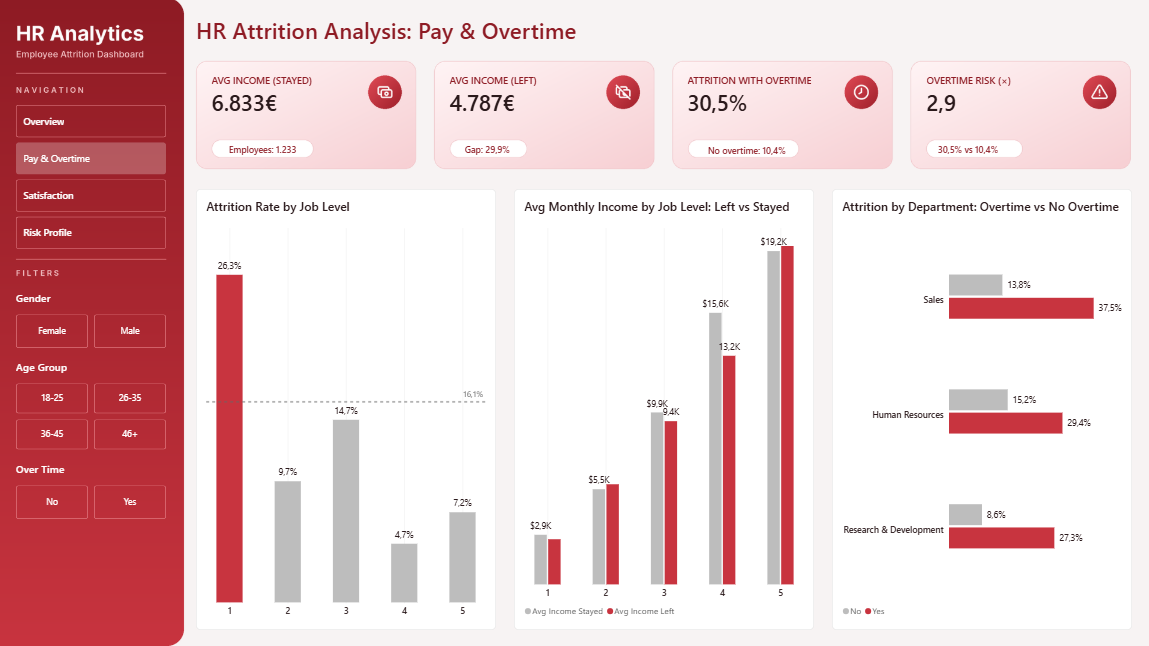

The page's visual inventory and layout, read from the dashboard file:
{"tool":"powerbi","page":{"name":"Pay & Overtime","canvas":[1920,1080],"ordinal":1},"visuals":[{"type":"textbox","box":[330,25,1000,60],"z":0},{"type":"clusteredColumnChart","title":"Avg Monthly Income by Job Level: Left vs Stayed","fields":{"Category":["HR.JobLevel"],"Y":["Measure.Avg Income Stayed","Measure.Avg Income Left"]},"box":[860,315,500,735],"z":1000},{"type":"clusteredColumnChart","title":"Attrition Rate by Job Level","fields":{"Category":["HR.JobLevel"],"Y":["Measure.Attrition Rate"]},"box":[330,315,500,735],"z":2000},{"type":"clusteredBarChart","title":"Attrition by Department: Overtime vs No Overtime","fields":{"Category":["DimDepartment.Department"],"Series":["HR.OverTime"],"Y":["Measure.Attrition Rate"]},"box":[1390,315,500,735],"z":3000},{"type":"pageNavigator","box":[30,175,250,240],"z":4000},{"type":"cardVisual","title":"TOTAL EMPLOYEES","fields":{"Data":["Measure.Avg Income Stayed Card"]},"box":[330,105,285,125],"z":5000},{"type":"cardVisual","fields":{"Data":["Measure.Avg Income Left Card"]},"box":[726.6,105,302,125.5],"z":6000},{"type":"cardVisual","fields":{"Data":["Measure.Attrition Rate OT"]},"box":[1123.4,105,383.7,125.5],"z":7000},{"type":"cardVisual","fields":{"Data":["Measure.OT Risk Multiplier"]},"box":[1521.7,105,367.7,125.5],"z":8000},{"type":"cardVisual","title":"TOTAL EMPLOYEES","fields":{"Data":["Measure.Ref Stayed"]},"box":[356,234,220,30],"z":9000},{"type":"cardVisual","title":"TOTAL EMPLOYEES","fields":{"Data":["Measure.Ref OT Compare"]},"box":[1537.8,233.4,154.7,30.6],"z":10000},{"type":"cardVisual","title":"TOTAL EMPLOYEES","fields":{"Data":["Measure.Ref No OT"]},"box":[1154.3,232.9,180,31.4],"z":11000},{"type":"cardVisual","title":"TOTAL EMPLOYEES","fields":{"Data":["Measure.Ref Income Gap"]},"box":[749.9,233.4,220,30],"z":12000},{"type":"advancedSlicerVisual","fields":{"Values":["HR.Gender"]},"box":[30,485,250,95],"z":13000},{"type":"advancedSlicerVisual","title":"Age Group","fields":{"Values":["HR.AgeGroup"]},"box":[30,600,250,150],"z":14000},{"type":"advancedSlicerVisual","title":"Over Time","fields":{"Values":["HR.OverTime"]},"box":[30,770,250,95],"z":15000}]}

Visuals, with their boxes in screenshot pixels (x1, y1, x2, y2), scaled from the page's 1920x1080 canvas onto the 1149x646 screenshot:
textbox: 197,15,796,51
"Avg Monthly Income by Job Level: Left vs Stayed" clusteredColumnChart: 515,188,814,628
"Attrition Rate by Job Level" clusteredColumnChart: 197,188,497,628
"Attrition by Department: Overtime vs No Overtime" clusteredBarChart: 832,188,1131,628
pageNavigator: 18,105,168,248
"TOTAL EMPLOYEES" cardVisual: 197,63,368,138
cardVisual - Measure.Avg Income Left Card: 435,63,616,138
cardVisual - Measure.Attrition Rate OT: 672,63,902,138
cardVisual - Measure.OT Risk Multiplier: 911,63,1131,138
"TOTAL EMPLOYEES" cardVisual: 213,140,345,158
"TOTAL EMPLOYEES" cardVisual: 920,140,1013,158
"TOTAL EMPLOYEES" cardVisual: 691,139,798,158
"TOTAL EMPLOYEES" cardVisual: 449,140,580,158
advancedSlicerVisual - HR.Gender: 18,290,168,347
"Age Group" advancedSlicerVisual: 18,359,168,449
"Over Time" advancedSlicerVisual: 18,461,168,517
